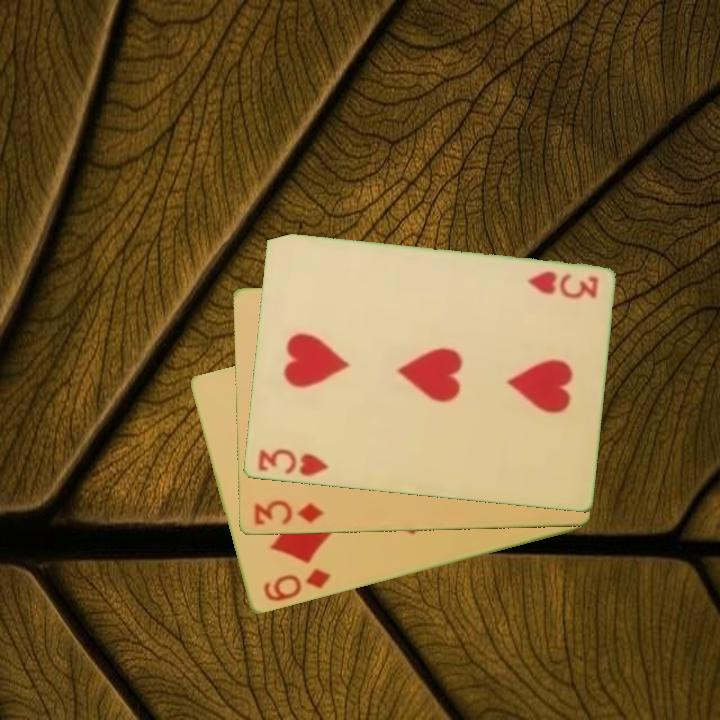3d: (250, 497, 327, 529)
3h: (523, 268, 601, 302), (254, 446, 331, 480)
6d: (259, 565, 334, 605)
